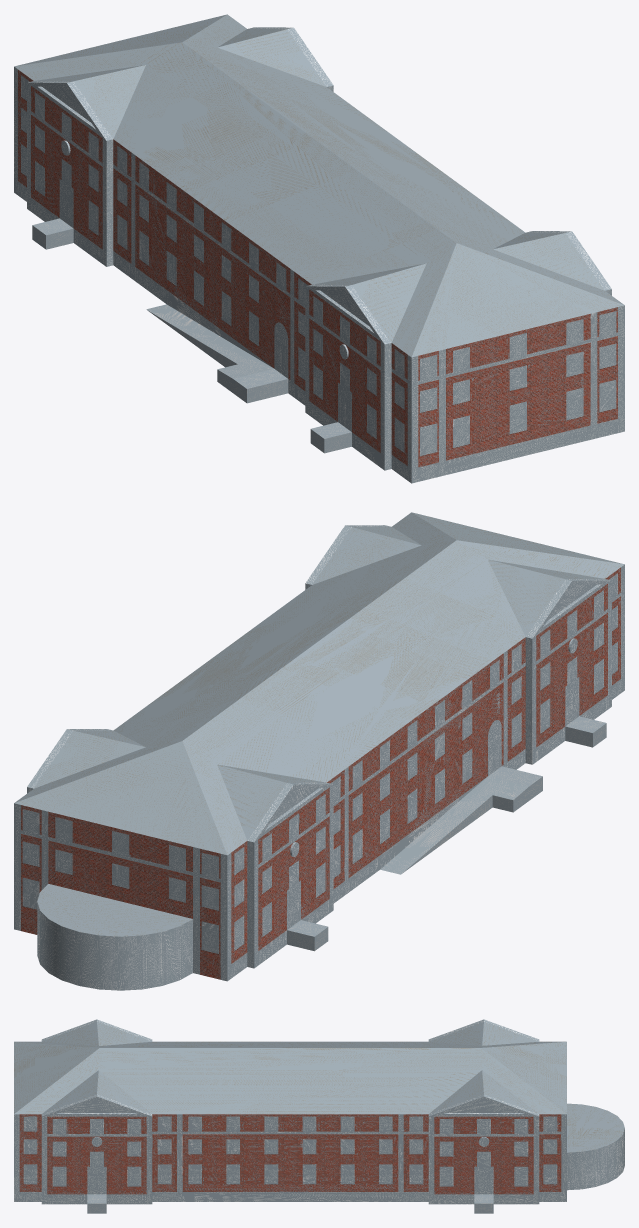
The model's file is Blodgett Hall Textured.fbx.
3 renders of one model, top to bottom at view 1: azimuth 30°, elevation 25°; view 2: azimuth 150°, elevation 25°; view 3: azimuth 270°, elevation 25°, orthographic. The views are drawn at different scales.
Visible parts, largest first — view 1: Model; view 2: Model; view 3: Model.
Boxes of the visible parts, left/top/right/bottom form: Model: left=14, top=14, right=624, bottom=483; Model: left=14, top=512, right=624, bottom=990; Model: left=14, top=1019, right=624, bottom=1213.
Size of the model in its own units: 1008 by 564 by 2652.
